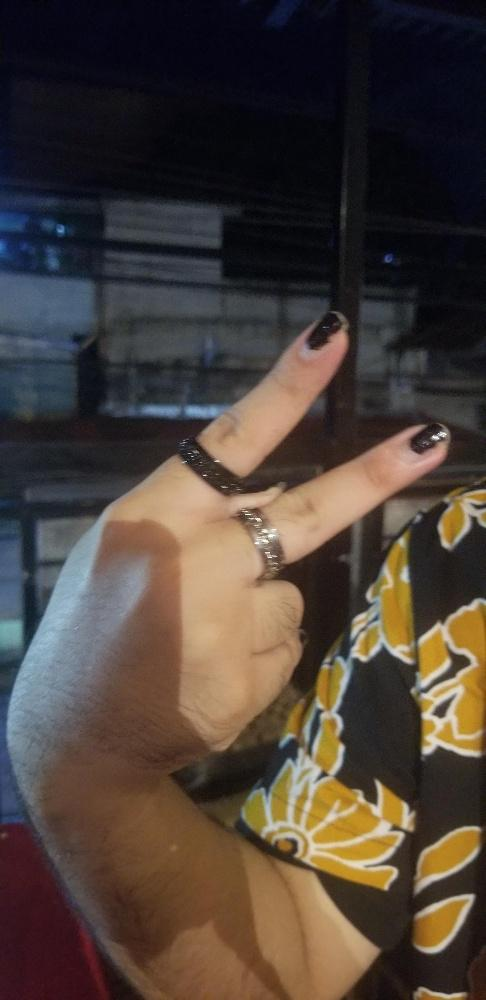k: (2, 310, 447, 771)
